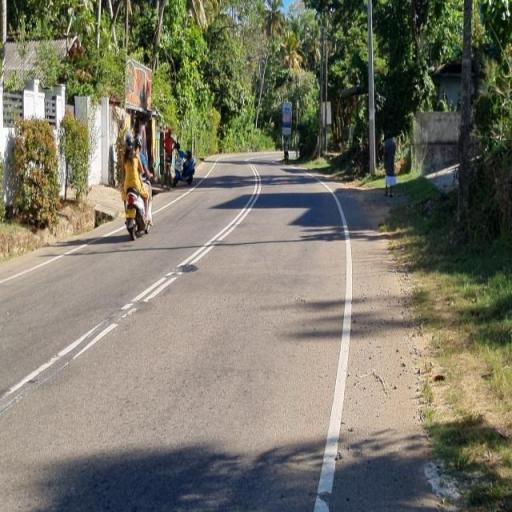double_white_line: (120, 162, 264, 320)
